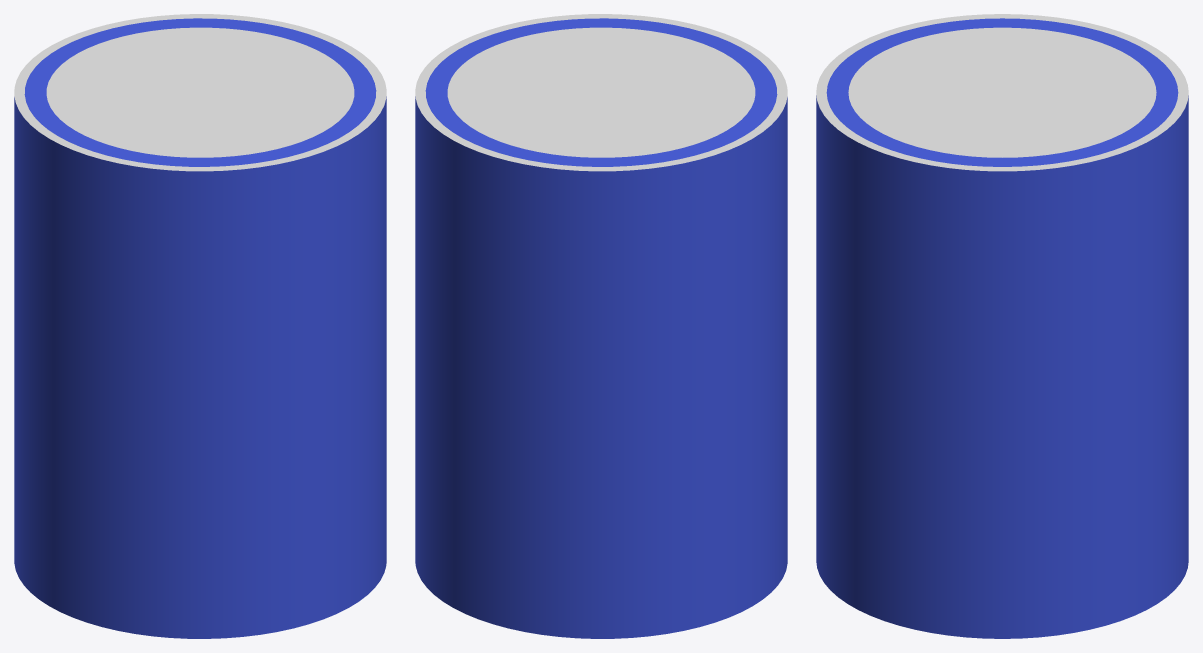
3 views of the same model, side by side, from view 1: azimuth 30°, elevation 25°; view 2: azimuth 150°, elevation 25°; view 3: azimuth 270°, elevation 25° (orthographic).
Parts seen in each view (by area): view 1: Cylinder; view 2: Cylinder; view 3: Cylinder.
Part boxes in pixels (box(x1,y1,x2,y2)): Cylinder: box(14, 14, 386, 638); Cylinder: box(415, 14, 787, 638); Cylinder: box(816, 14, 1188, 638).
Size of the model in its own units: 212 by 293 by 212.
